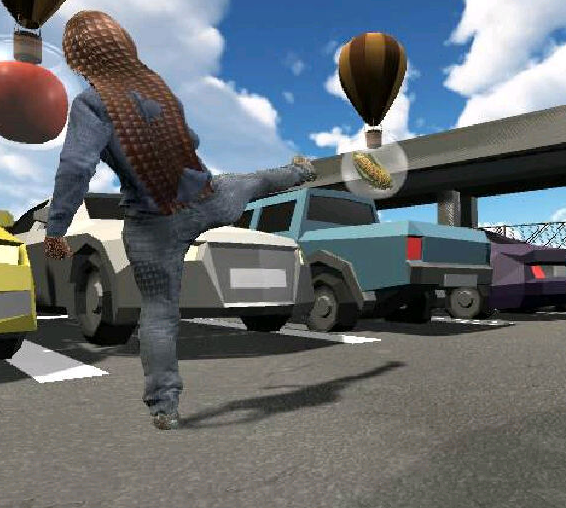turn_right: (45, 8, 317, 426)
